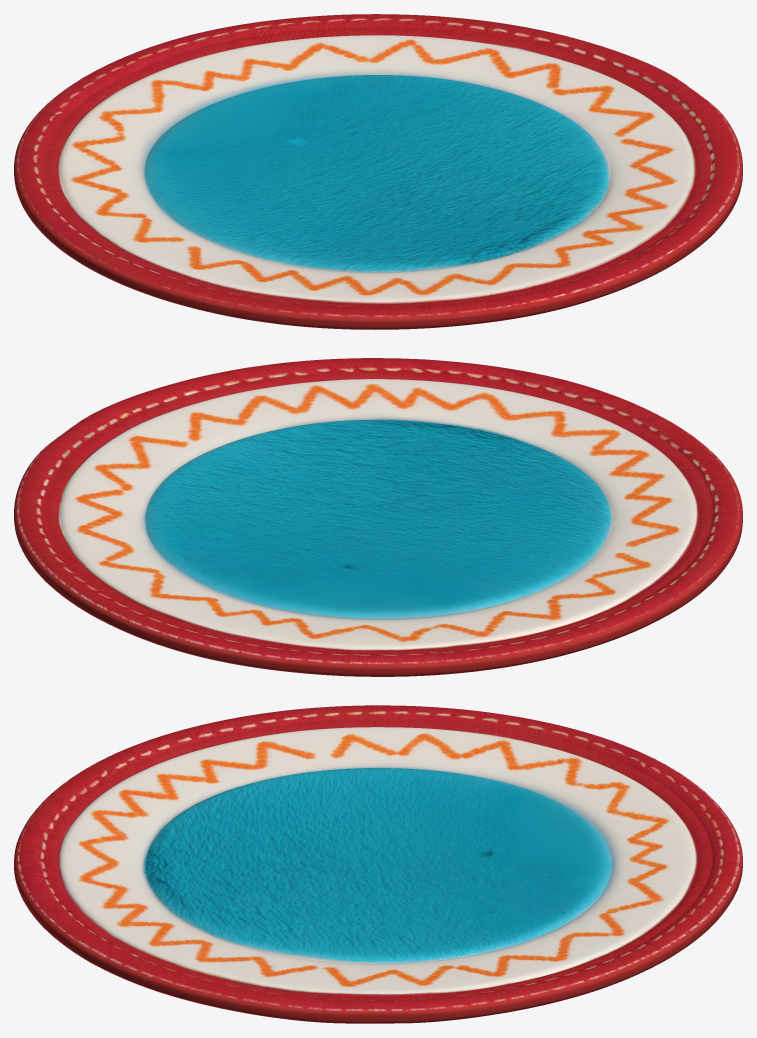
File: SM_F_Carpet.glb
3 views of the same model, one above another, from view 1: azimuth 30°, elevation 25°; view 2: azimuth 150°, elevation 25°; view 3: azimuth 270°, elevation 25° (orthographic).
Visible parts, largest first — view 1: SM_F_Carpet; view 2: SM_F_Carpet; view 3: SM_F_Carpet.
Part boxes in pixels (x1,y1,x2,y2): SM_F_Carpet: (14,14,742,329); SM_F_Carpet: (14,358,742,676); SM_F_Carpet: (14,705,742,1023).
Bounding box in the file's own units: 4.8 × 0.1867 × 4.8.
1 material, 1 textured.
